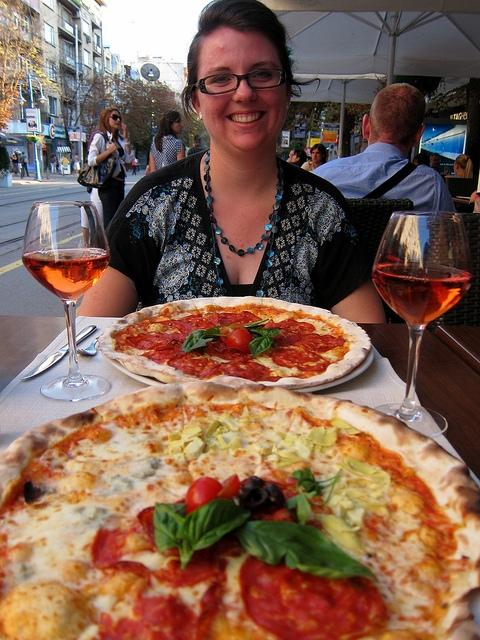tomato: (138, 593, 198, 638), (151, 555, 221, 587), (92, 527, 140, 569), (216, 356, 283, 382), (185, 476, 223, 516), (270, 348, 330, 372), (126, 331, 188, 351), (261, 318, 316, 335), (293, 334, 345, 351), (226, 328, 253, 354), (218, 324, 248, 346), (218, 474, 242, 500), (263, 509, 297, 523)
